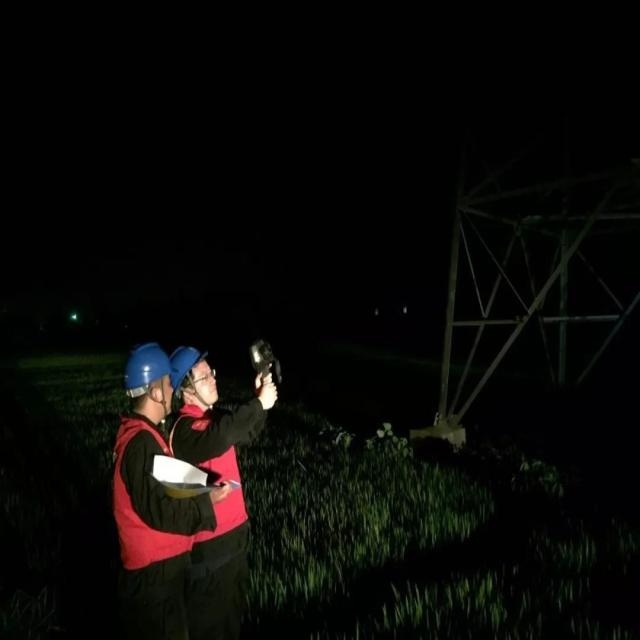Con_Casco: (127, 345, 173, 415), (170, 347, 217, 405)
